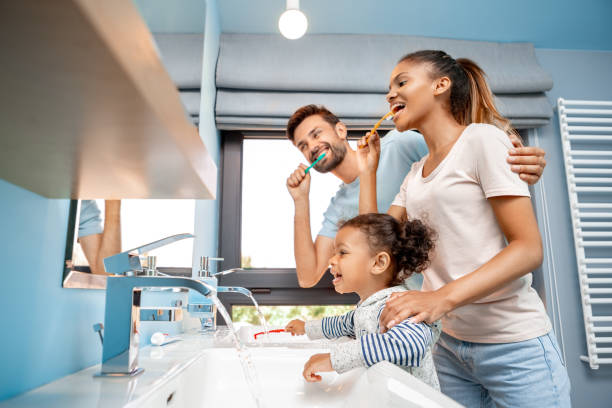without mask: (380, 53, 454, 137), (283, 94, 357, 178), (323, 218, 397, 302)
